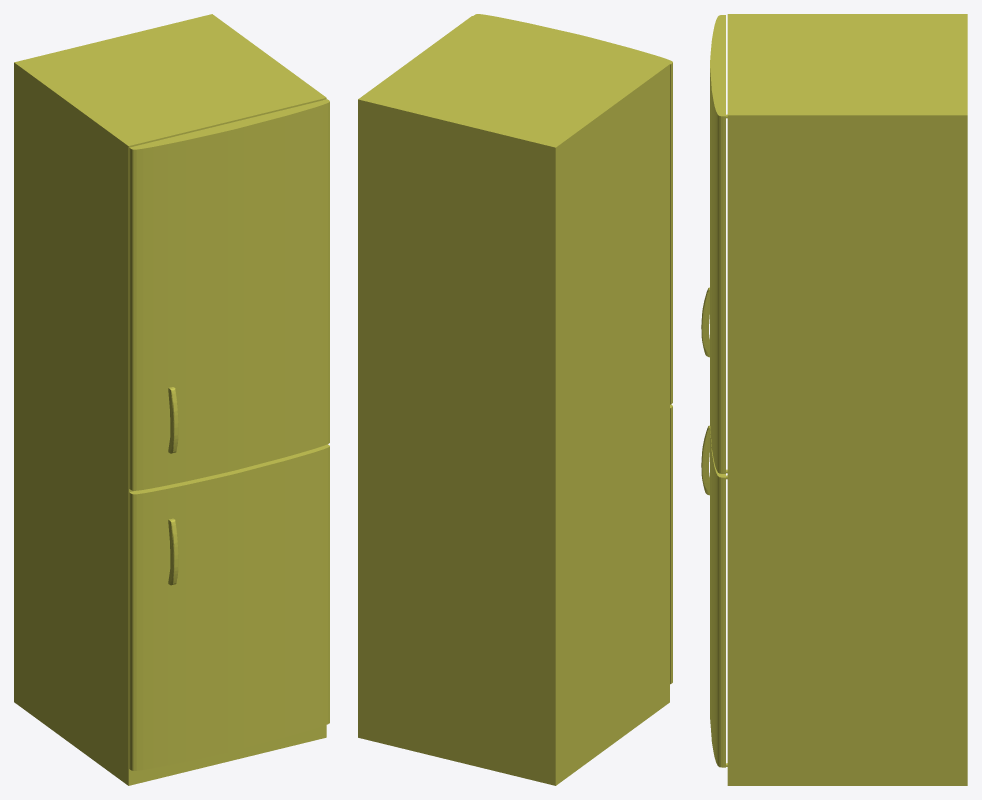
The model's file is eteks-fridgefreezer.glb.
3 views of the same model, side by side, from view 1: azimuth 30°, elevation 25°; view 2: azimuth 150°, elevation 25°; view 3: azimuth 270°, elevation 25° (orthographic). The views are drawn at different scales.
Visible parts, largest first — view 1: Corps, sweethome3d_opening_on_hinge_1_door, sweethome3d_opening_on_hinge_2_door, sweethome3d_opening_on_hinge_1_handle, sweethome3d_opening_on_hinge_2_handle; view 2: Corps, sweethome3d_opening_on_hinge_1_door, sweethome3d_opening_on_hinge_2_door; view 3: Corps, sweethome3d_opening_on_hinge_1_door, sweethome3d_opening_on_hinge_2_door, sweethome3d_opening_on_hinge_2_handle, sweethome3d_opening_on_hinge_1_handle.
Boxes of the visible parts, left/top/right/bottom form: Corps: left=14, top=14, right=326, bottom=785; sweethome3d_opening_on_hinge_1_door: left=129, top=99, right=329, bottom=490; sweethome3d_opening_on_hinge_2_door: left=129, top=444, right=329, bottom=770; sweethome3d_opening_on_hinge_1_handle: left=168, top=387, right=178, bottom=453; sweethome3d_opening_on_hinge_2_handle: left=168, top=518, right=178, bottom=585; Corps: left=358, top=16, right=669, bottom=785; sweethome3d_opening_on_hinge_1_door: left=473, top=14, right=672, bottom=404; sweethome3d_opening_on_hinge_2_door: left=670, top=404, right=672, bottom=684; Corps: left=727, top=14, right=967, bottom=785; sweethome3d_opening_on_hinge_1_door: left=710, top=15, right=725, bottom=473; sweethome3d_opening_on_hinge_2_door: left=710, top=426, right=725, bottom=767; sweethome3d_opening_on_hinge_2_handle: left=701, top=425, right=709, bottom=495; sweethome3d_opening_on_hinge_1_handle: left=701, top=287, right=709, bottom=357.
Size of the model in its own units: 60 by 185 by 66.53.
